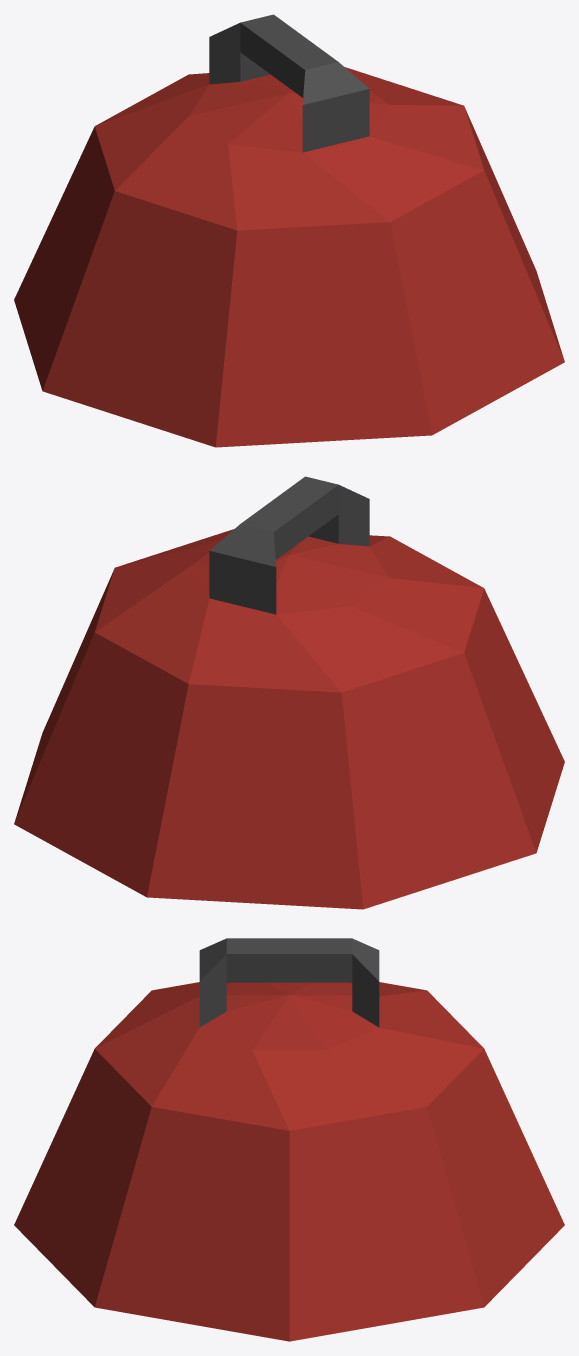
The model's file is Grill_Small_Lid.fbx.
3 views of the same model, one above another, from view 1: azimuth 30°, elevation 25°; view 2: azimuth 150°, elevation 25°; view 3: azimuth 270°, elevation 25° (orthographic). The views are drawn at different scales.
Visible parts, largest first — view 1: Sphere; view 2: Sphere; view 3: Sphere.
Part boxes in pixels (x1=…): Sphere: x1=14, y1=14, x2=564, y2=447; Sphere: x1=14, y1=476, x2=564, y2=909; Sphere: x1=14, y1=938, x2=564, y2=1341.
Size of the model in its own units: 1169 by 653 by 1169.
